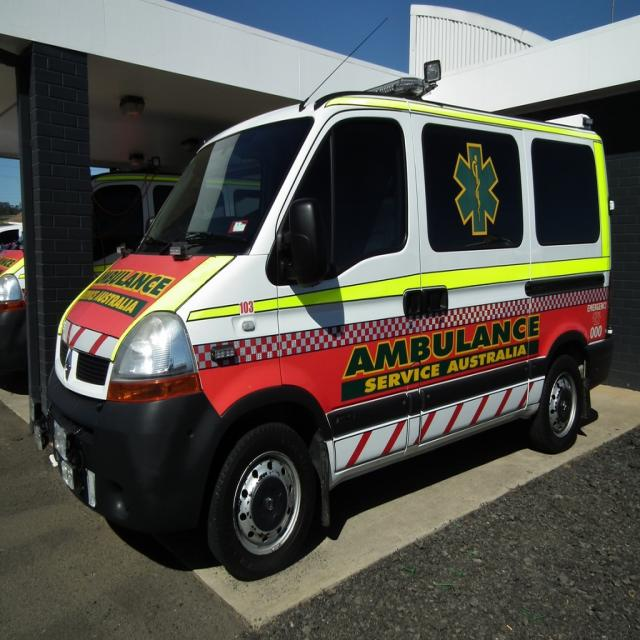Ambulance: (33, 14, 618, 580), (0, 166, 266, 387)
